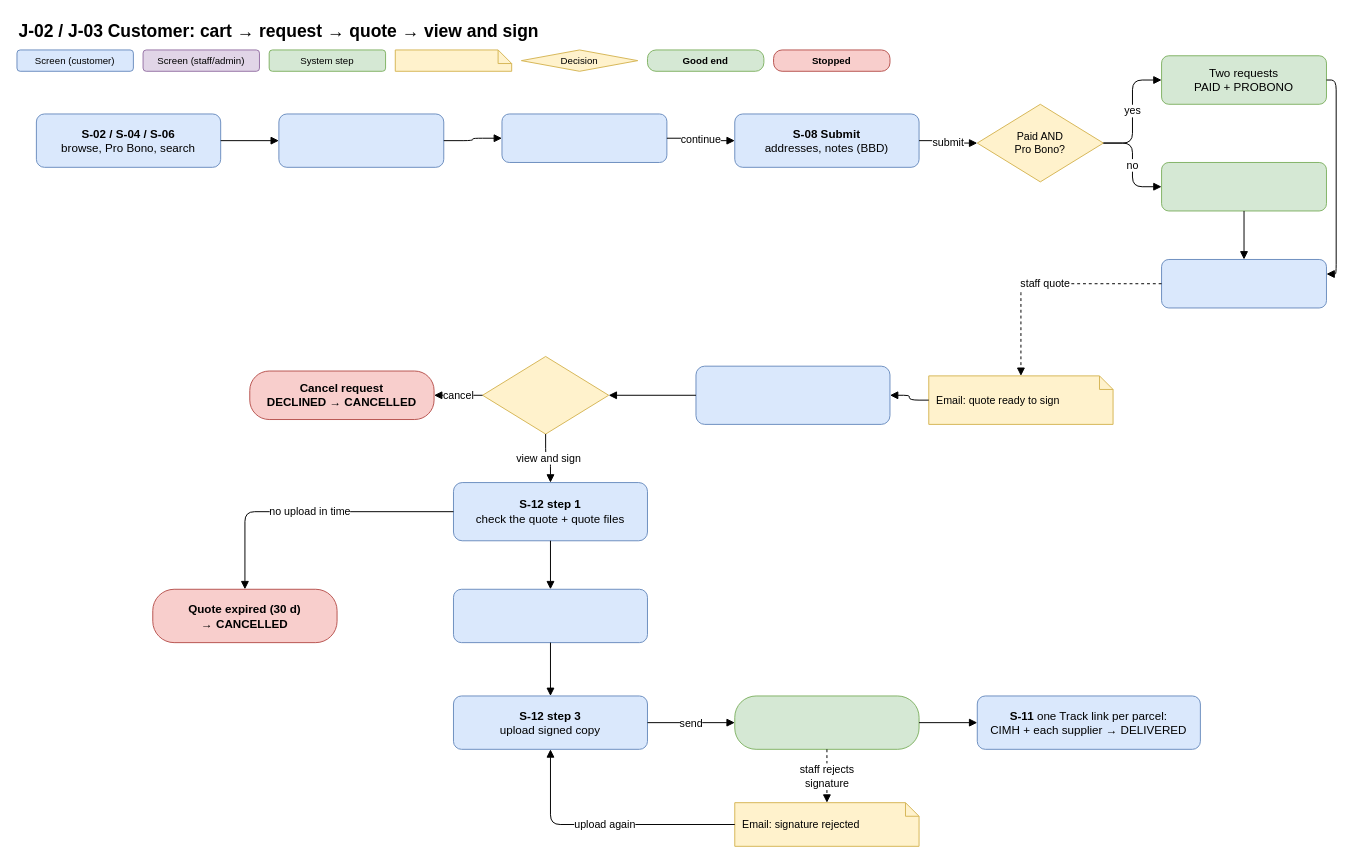
This 1361x863 diagram has some shape labels left out. The shapes that lost their labels are listed below. From the top down, each one's centre as x and y in pixels, then its label:
At point (453, 60): "Email".
At point (361, 140): "S-03 Product Add to cart".
At point (584, 137): "S-07 Cart".
At point (1243, 186): "One request".
At point (1243, 283): "S-09 Submitted".
At point (545, 395): "Proceed?".
At point (792, 394): "S-11 Request prices, sources, shipping, total".
At point (550, 615): "S-12 step 2 download agreement + sign".
At point (826, 722): "ACCEPTED (commitment to pay)".
